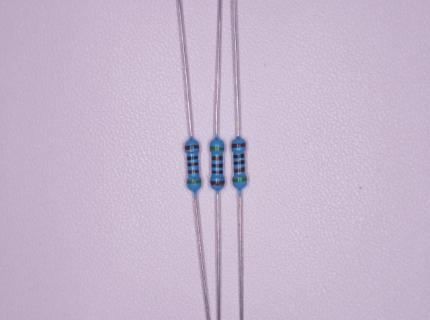Black band: (187, 156, 199, 161), (187, 162, 199, 167), (211, 163, 223, 168), (233, 154, 245, 159), (233, 160, 245, 165), (211, 170, 223, 174)
Brown band: (210, 180, 225, 186), (185, 145, 199, 151), (231, 143, 246, 148), (234, 167, 246, 173), (211, 156, 223, 161), (188, 170, 199, 174)
Green band: (186, 179, 201, 185), (232, 177, 247, 183), (209, 146, 224, 151)
